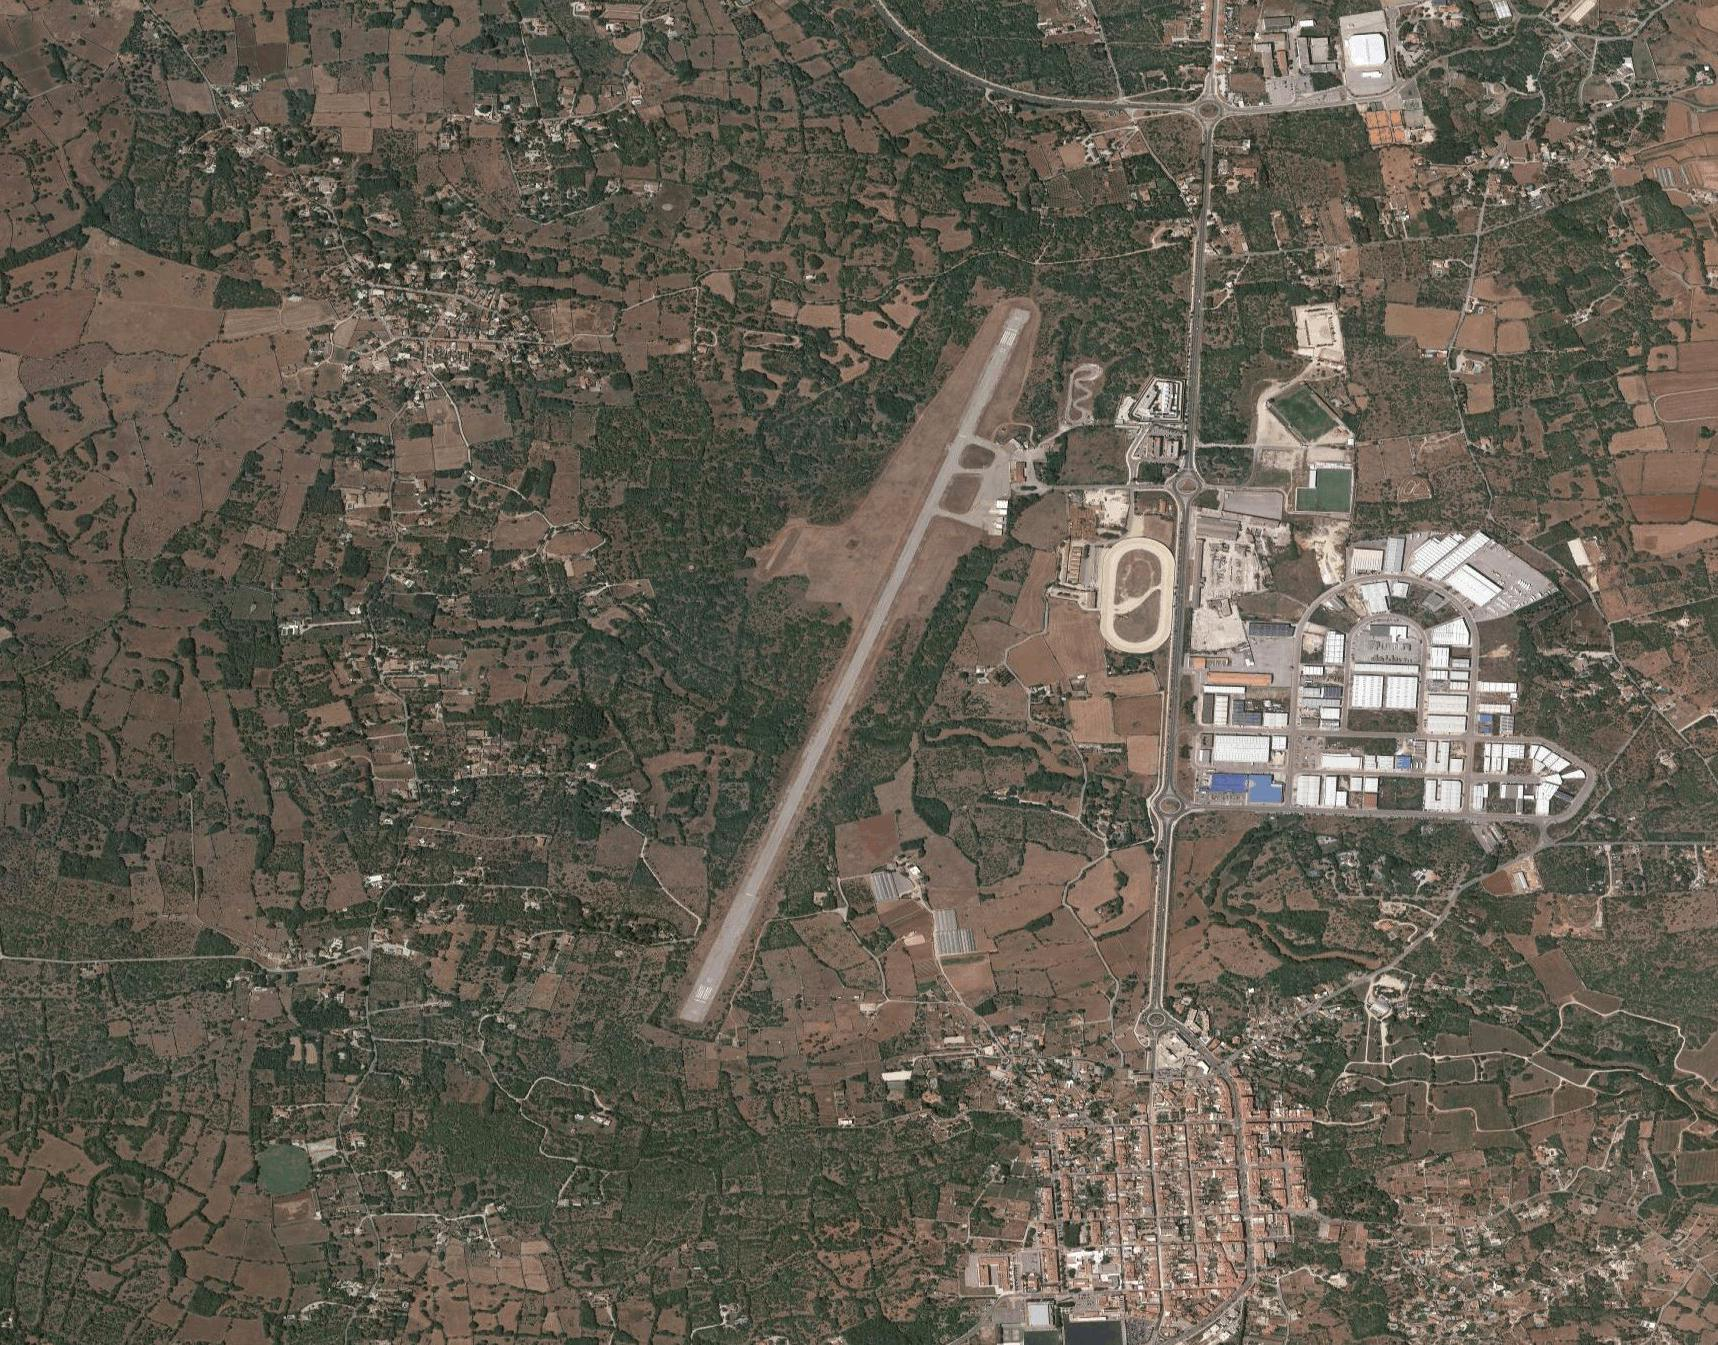airport: (674, 302, 1036, 1030)
